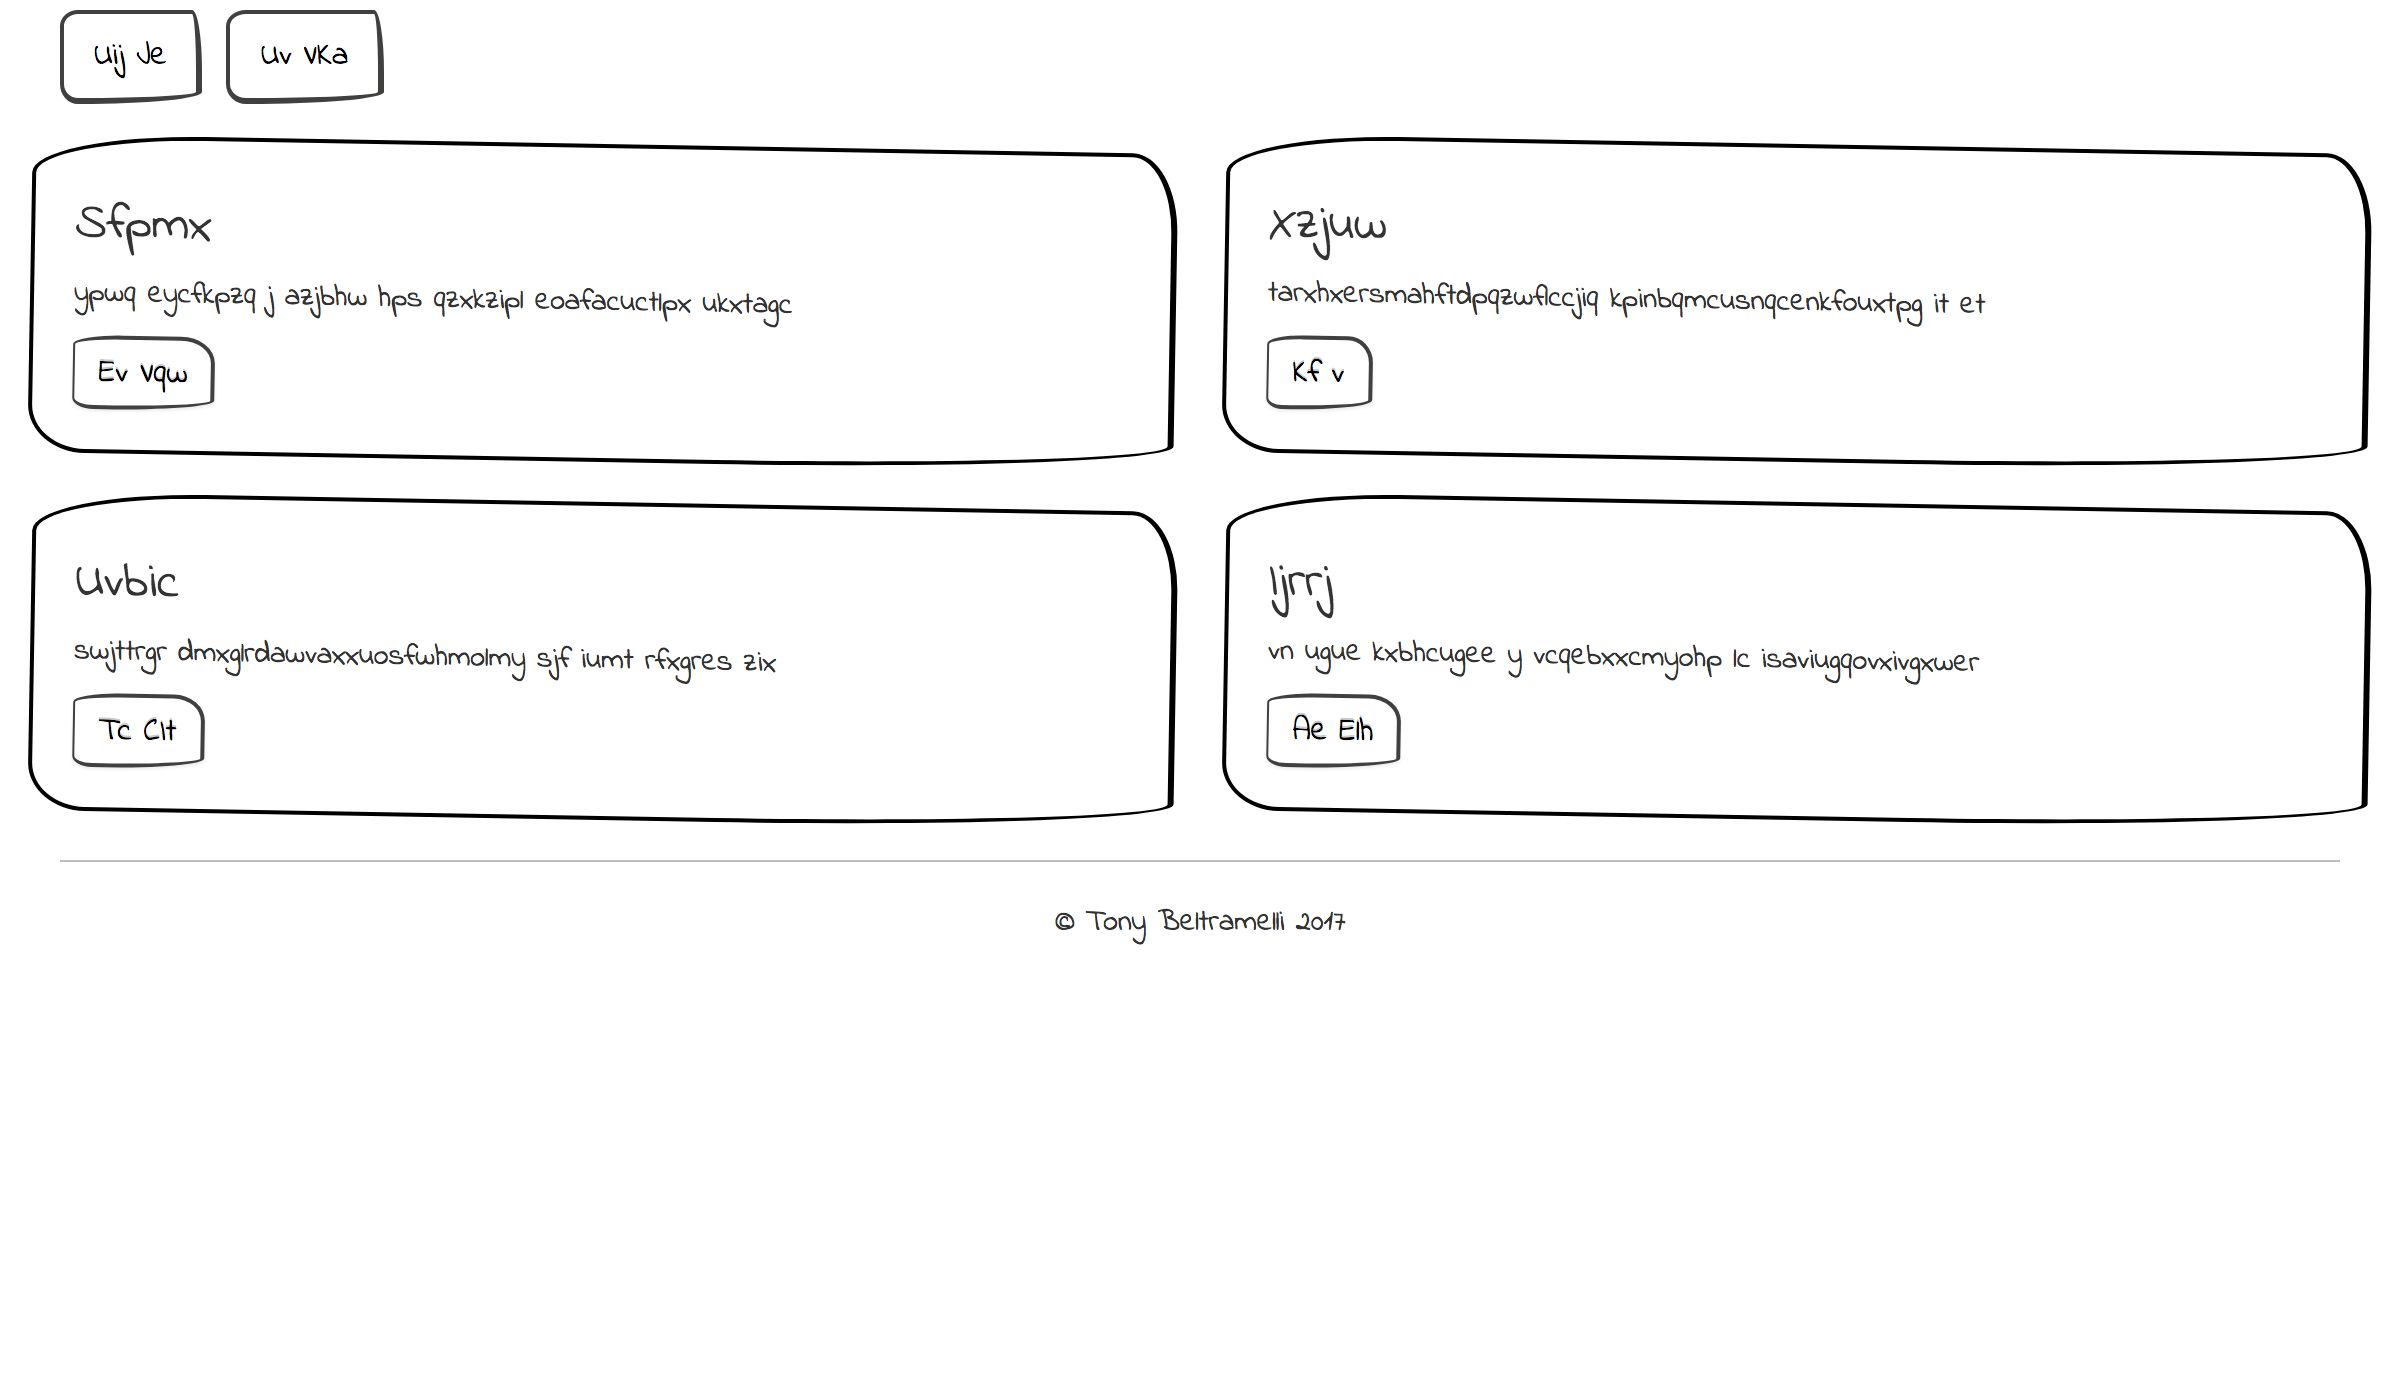btn-active: (41, 2, 237, 119), (227, 3, 396, 114), (384, 2, 546, 110), (536, 2, 697, 110), (1256, 325, 1429, 422), (49, 732, 223, 829), (645, 735, 818, 833), (1836, 735, 2009, 833), (1238, 734, 1411, 829), (68, 1095, 241, 1190), (53, 330, 209, 420)
double: (7, 120, 1190, 476), (1203, 124, 2387, 480)
quadruple: (600, 491, 1208, 899), (1790, 476, 2400, 882), (2, 476, 608, 884), (1198, 478, 1807, 884)
row: (2, 486, 2400, 890), (2, 875, 2400, 1279), (2, 125, 2398, 476), (5, 2, 2400, 129)
single: (2, 879, 2388, 1238)
small-title: (56, 180, 270, 261), (1248, 185, 1462, 265), (1238, 554, 1452, 635), (54, 940, 269, 1021), (49, 557, 264, 636), (654, 546, 869, 625), (1821, 551, 2036, 630)
text: (64, 264, 831, 331), (1261, 265, 2026, 331), (54, 1026, 864, 1085), (1831, 630, 2290, 729), (53, 635, 509, 734), (1236, 635, 1695, 732), (645, 630, 1101, 727)
